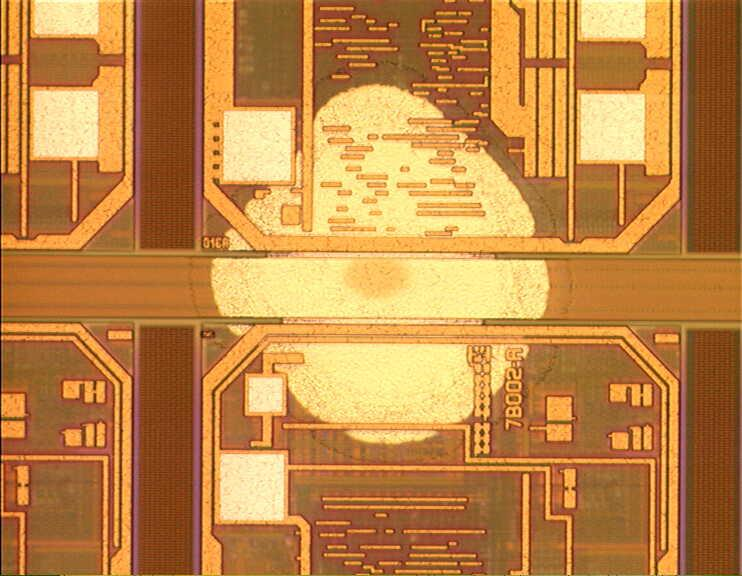BLOCK ETCH: (187, 51, 580, 473)
